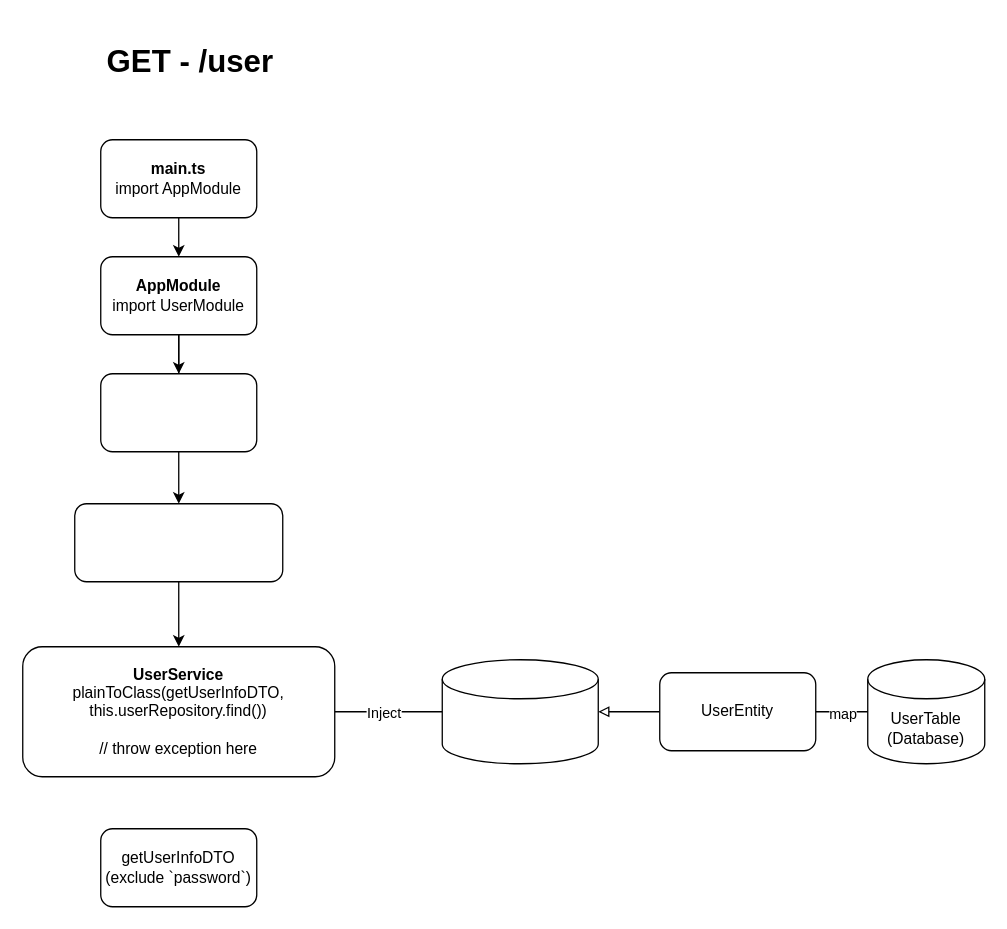
This 1007x929 diagram has some shape labels left out. Here are the shapes that lost their labels. From the top down, the centre of each, then its label:
At (178,412): "UserModule có controller là UserController".
At (178,542): "UserController this.UserService.get()".
At (519,711): "Repository<User>".
